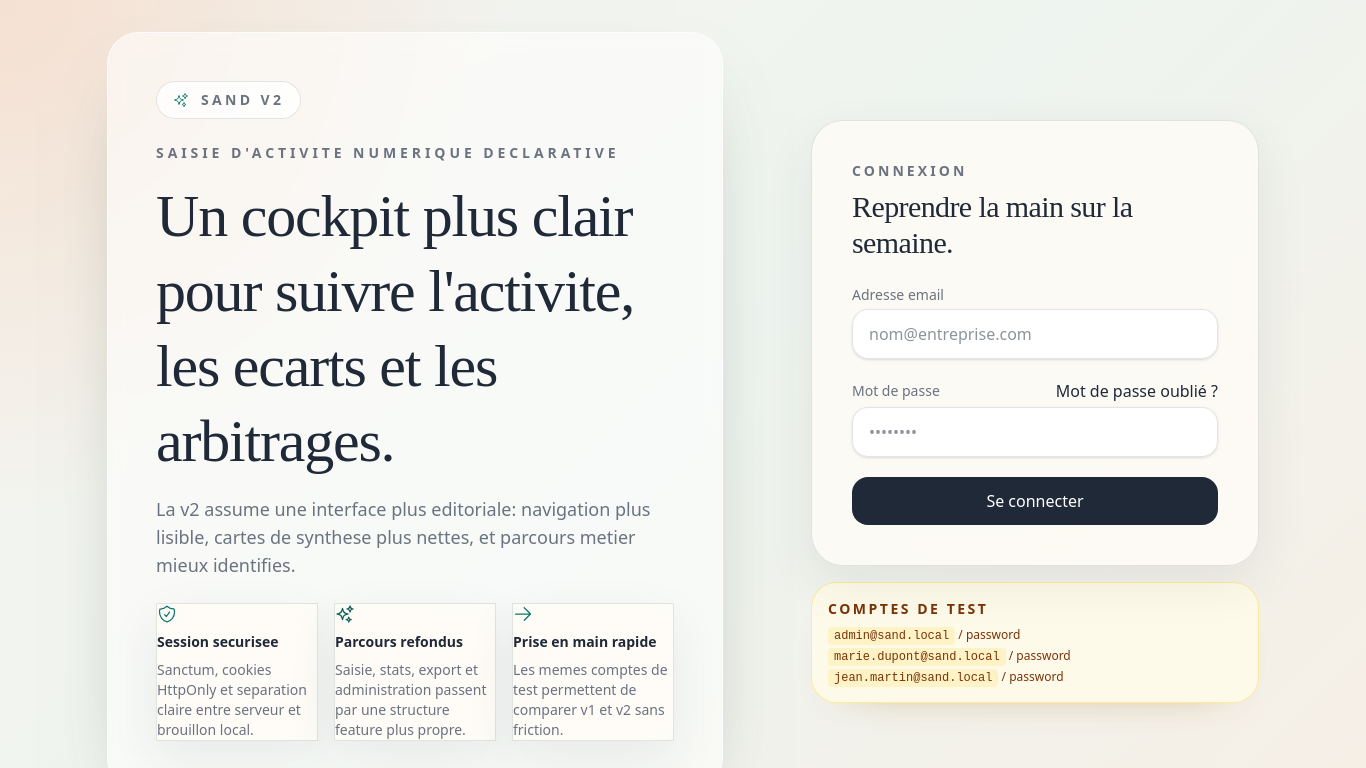
Test case: LoginPage › desactive les champs pendant le chargement
Type "test@test.com" into the field labelled "Adresse email".
click(1035, 334); type("test@test.com")  # box x1=852 y1=308 x2=1218 y2=358
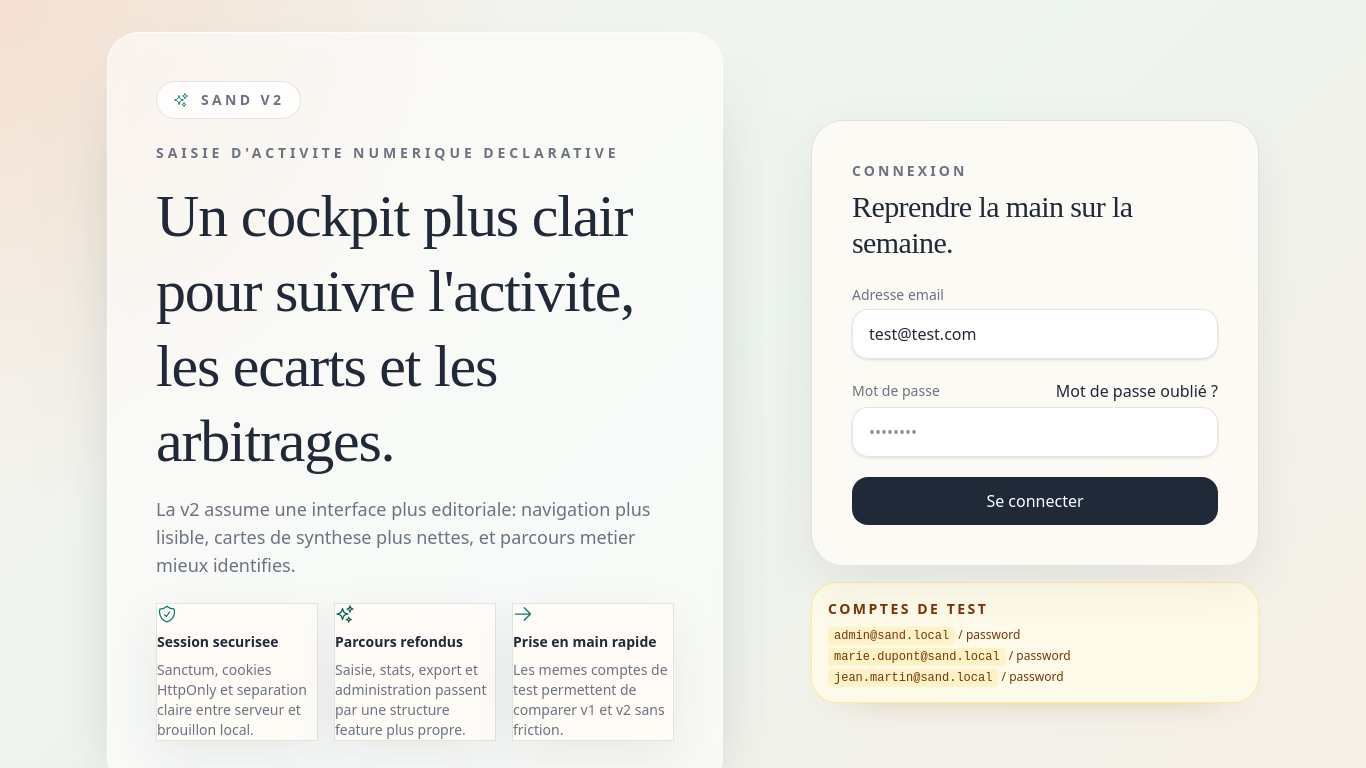
Type "password" into the password field labelled "Mot de passe".
click(1035, 432); type("password")  # box x1=852 y1=406 x2=1218 y2=456
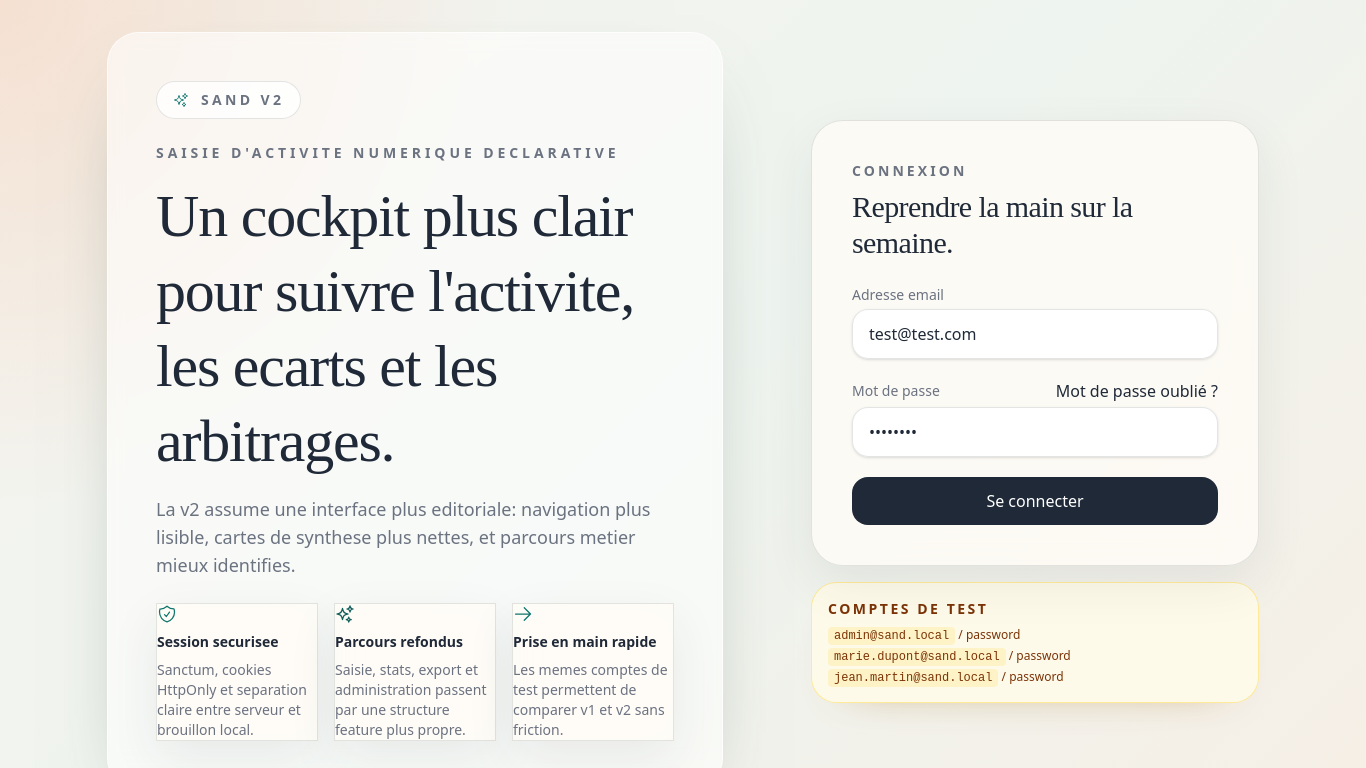
Click the button "Se connecter".
click(1035, 500)  # box x1=852 y1=476 x2=1218 y2=524
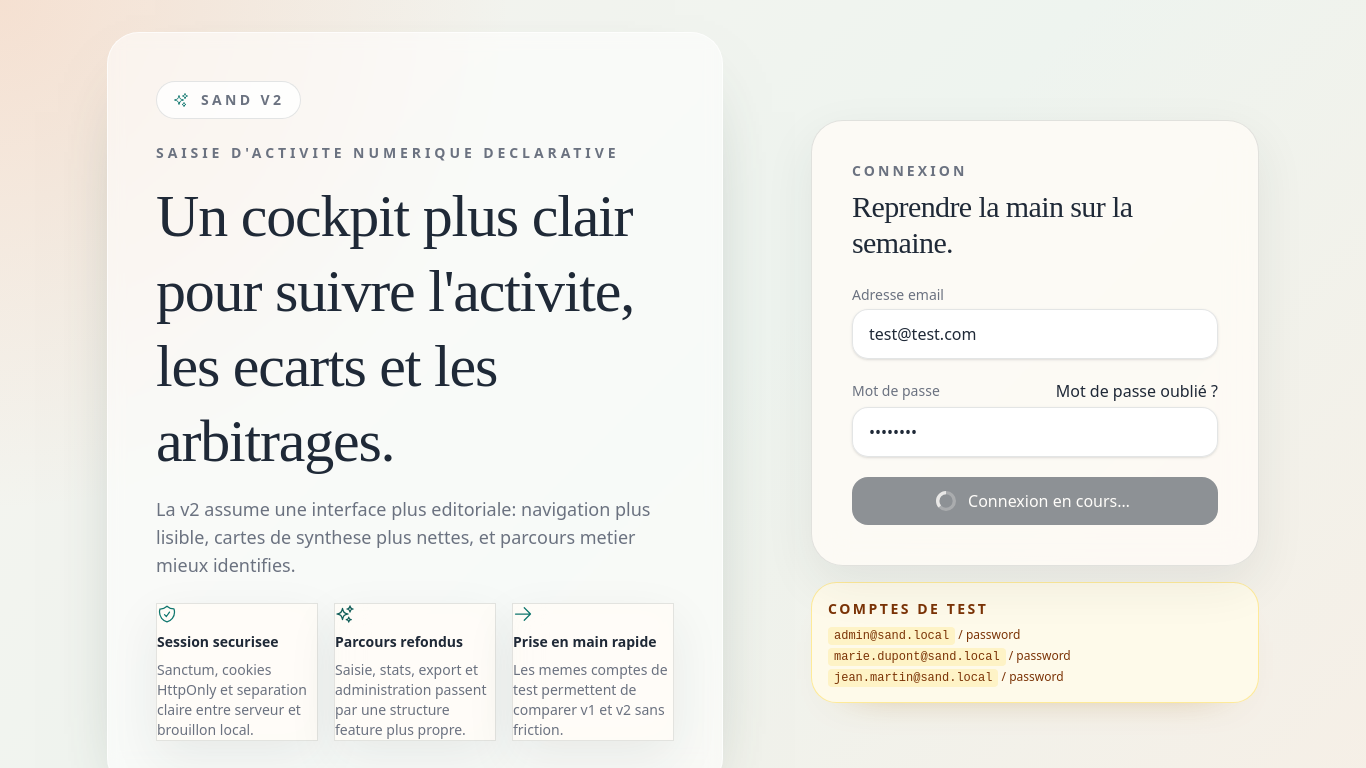
Expected: the text "Connexion en cours…" is shown, x1=940 y1=488 x2=1130 y2=512
